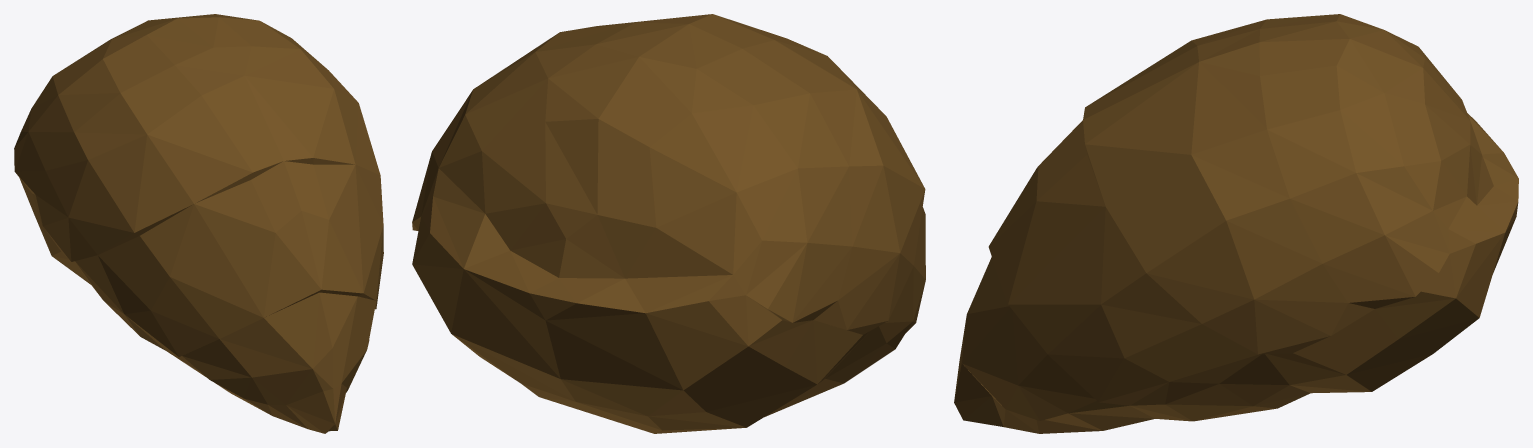
File: gaster.dae
3 renders of one model, left to right at view 1: azimuth 30°, elevation 25°; view 2: azimuth 150°, elevation 25°; view 3: azimuth 270°, elevation 25°, orthographic. The views are drawn at different scales.
Visible parts, largest first — view 1: ant-gaster; view 2: ant-gaster; view 3: ant-gaster.
Part boxes in pixels (box(x1,y1,x2,y2)): ant-gaster: box(14, 14, 383, 433); ant-gaster: box(412, 14, 925, 433); ant-gaster: box(954, 14, 1518, 433).
Bounding box in the file's own units: 5.89 × 7.74 × 5.89.
